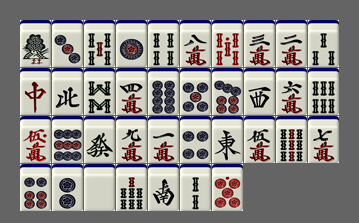0m: (20, 116, 51, 163)
0p: (212, 164, 243, 211)
0s: (212, 20, 243, 67)
1m: (148, 116, 179, 163)
1p: (116, 20, 147, 67)
1s: (20, 20, 51, 67)
1z: (212, 116, 243, 163)
2m: (276, 20, 307, 67)
2p: (52, 164, 83, 211)
2s: (180, 164, 211, 211)
2z: (148, 164, 179, 211)
3m: (244, 20, 275, 67)
3p: (52, 20, 83, 67)
3s: (308, 20, 339, 67)
3z: (244, 68, 275, 115)
4m: (116, 68, 147, 115)
4p: (180, 116, 211, 163)
4s: (148, 20, 179, 67)
4z: (52, 68, 83, 115)
5m: (244, 116, 275, 163)
5p: (180, 68, 211, 115)
5s: (84, 20, 115, 67)
5z: (84, 164, 115, 211)
6m: (276, 68, 307, 115)
6p: (20, 164, 51, 211)
6s: (308, 68, 339, 115)
6z: (84, 116, 115, 163)
7m: (308, 116, 339, 163)
7p: (212, 68, 243, 115)
7s: (116, 164, 147, 211)
7z: (20, 68, 51, 115)
8m: (180, 20, 211, 67)
8p: (148, 68, 179, 115)
8s: (84, 68, 115, 115)
9m: (116, 116, 147, 163)
9p: (52, 116, 83, 163)
9s: (276, 116, 307, 163)
